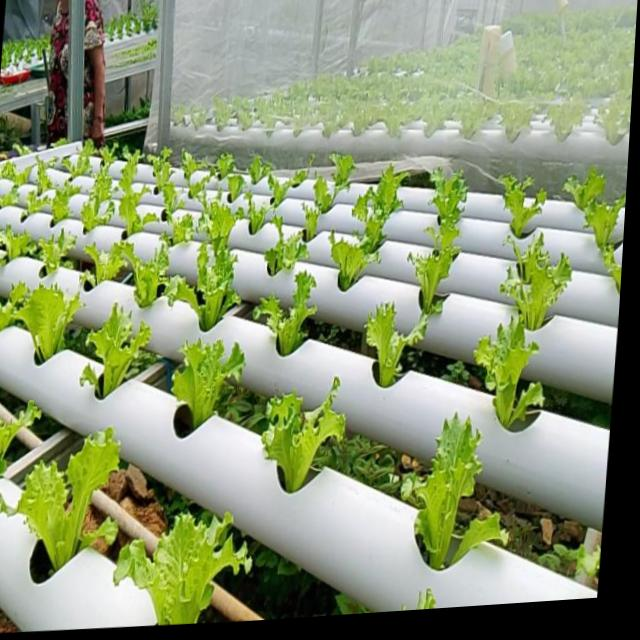Baby: (0, 427, 113, 569), (106, 513, 245, 623), (397, 414, 475, 571), (256, 378, 340, 495), (404, 170, 463, 323), (468, 317, 538, 430), (166, 341, 240, 440), (496, 233, 566, 331), (80, 305, 145, 401), (10, 282, 79, 364), (360, 304, 423, 389), (249, 273, 312, 358), (348, 166, 404, 254), (108, 240, 173, 310), (577, 195, 624, 268), (76, 150, 115, 235), (250, 218, 304, 278), (192, 195, 240, 258), (324, 234, 375, 293), (495, 175, 541, 239), (58, 141, 91, 179), (47, 182, 74, 225), (183, 172, 207, 203), (167, 215, 190, 246), (32, 160, 48, 197)
